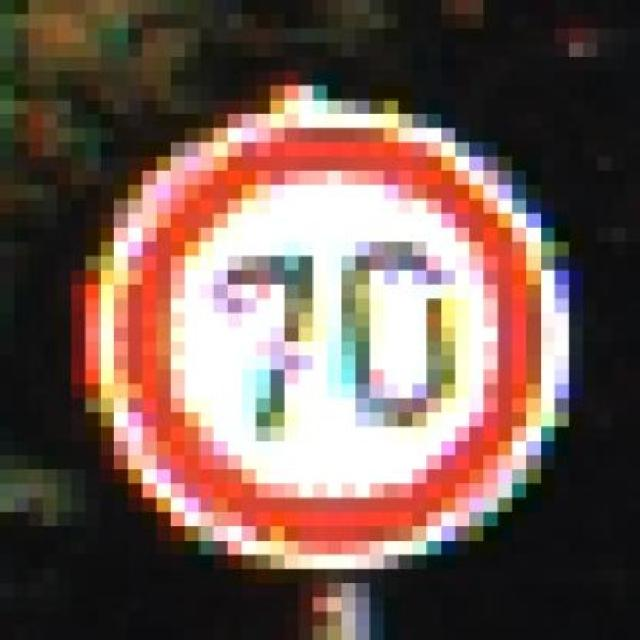forb_speed_over_70: (114, 125, 551, 558)
